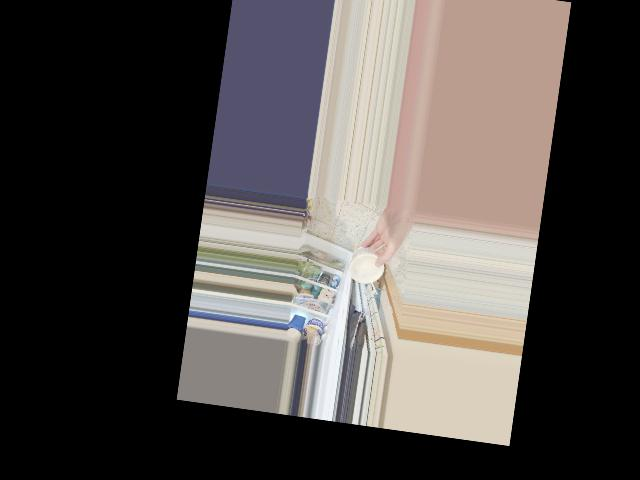cotage: (347, 249, 382, 289)
